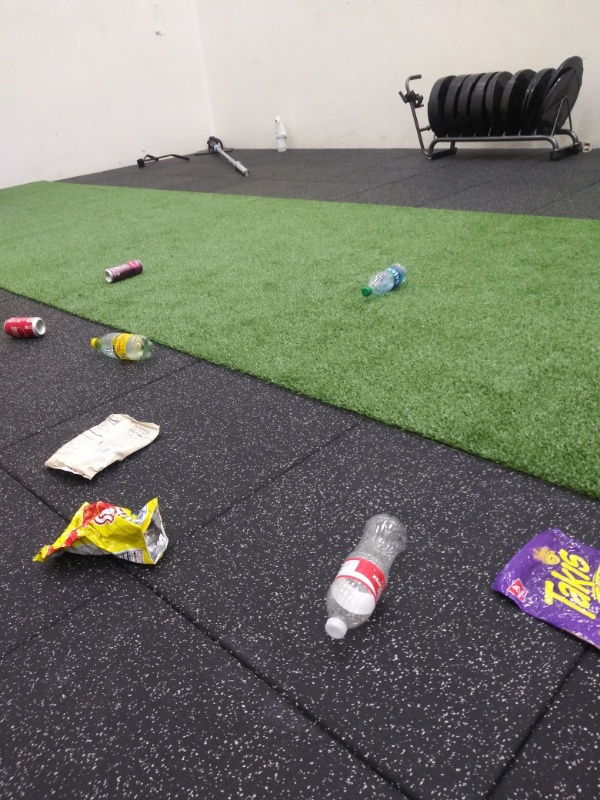bag: (482, 525, 600, 657), (26, 492, 169, 574), (38, 410, 163, 482)
bottle: (318, 507, 419, 646), (356, 259, 415, 304), (82, 332, 154, 367)
can: (1, 313, 52, 342), (102, 256, 144, 287)
